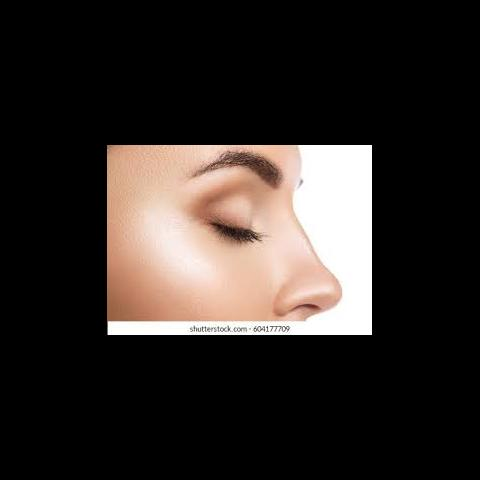closed: (188, 148, 309, 256)
